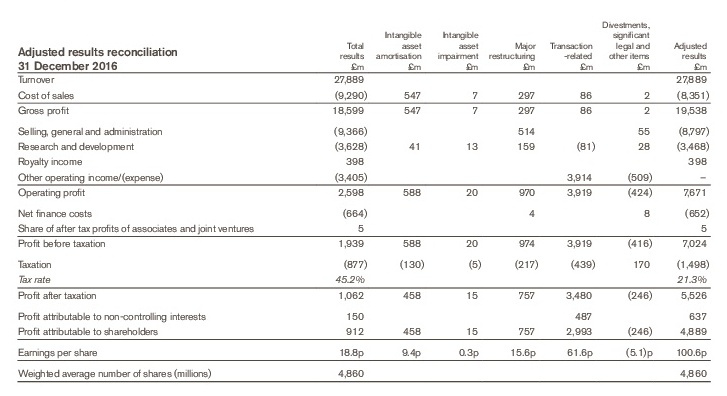table: (0, 0, 727, 396)
